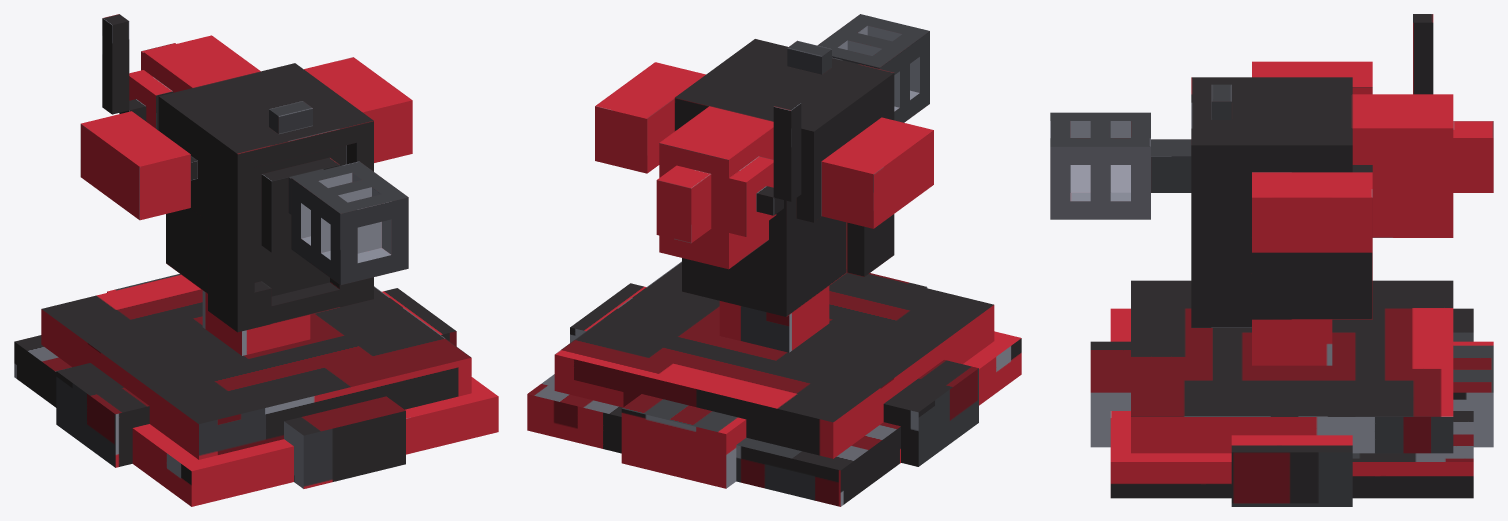
Rendered from CowboysTurret.fbx.
3 renders of one model, left to right at view 1: azimuth 30°, elevation 25°; view 2: azimuth 150°, elevation 25°; view 3: azimuth 270°, elevation 25°, orthographic. The views are drawn at different scales.
Parts seen in each view (by area): view 1: Head, Body; view 2: Body, Head; view 3: Head, Body.
Part boxes in pixels (x1,y1,x2,y2): Head: [80, 14, 412, 355]; Body: [14, 274, 498, 506]; Body: [527, 261, 1021, 506]; Head: [595, 14, 933, 352]; Head: [1050, 14, 1493, 365]; Body: [1090, 280, 1493, 506].
Bounding box in the file's own units: 200 × 200 × 220.
1 material, 1 textured.
